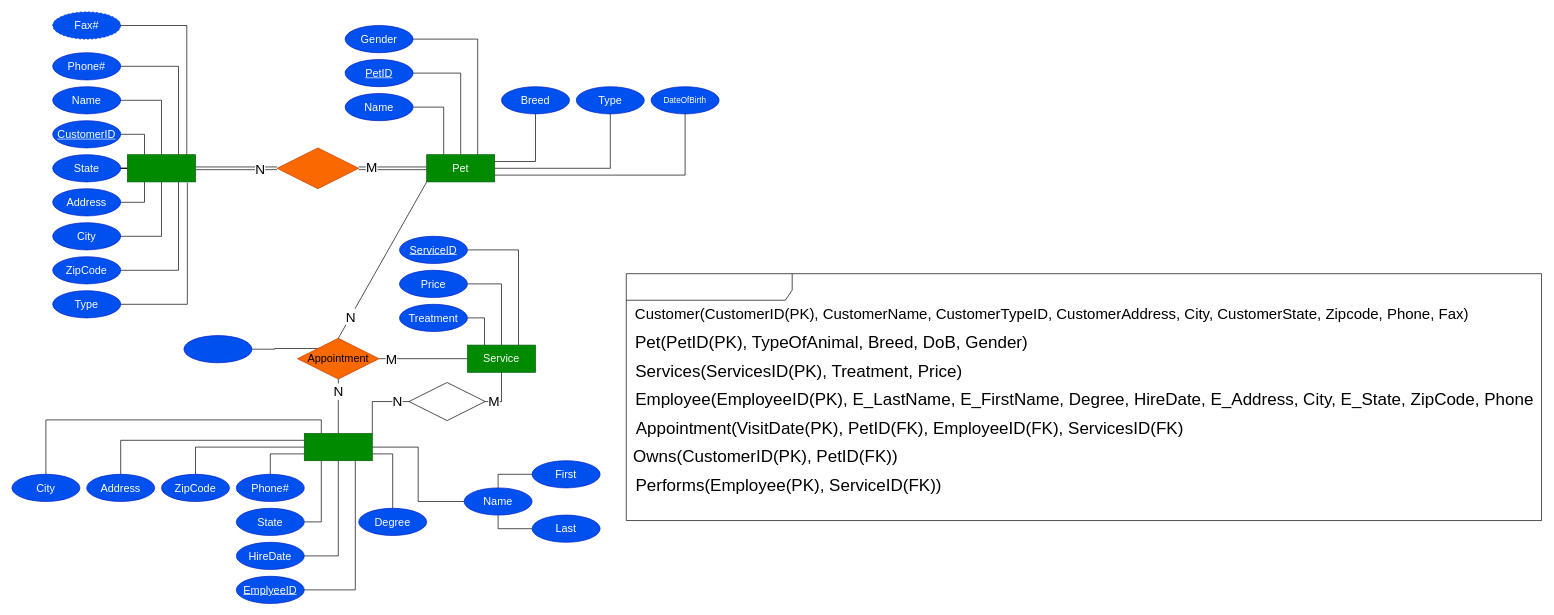
This 1554x615 diagram has some shape labels left out. The shapes that lost their labels are listed below. From the top down, each one's box as (x1, y1, x2, y2) in pixels, then its label:
(127, 154, 196, 182): Customer
(276, 147, 359, 189): Owns
(183, 335, 252, 363): VisitDate
(408, 382, 485, 421): Performs
(626, 273, 1542, 521): Relations
(304, 433, 372, 461): Employee
